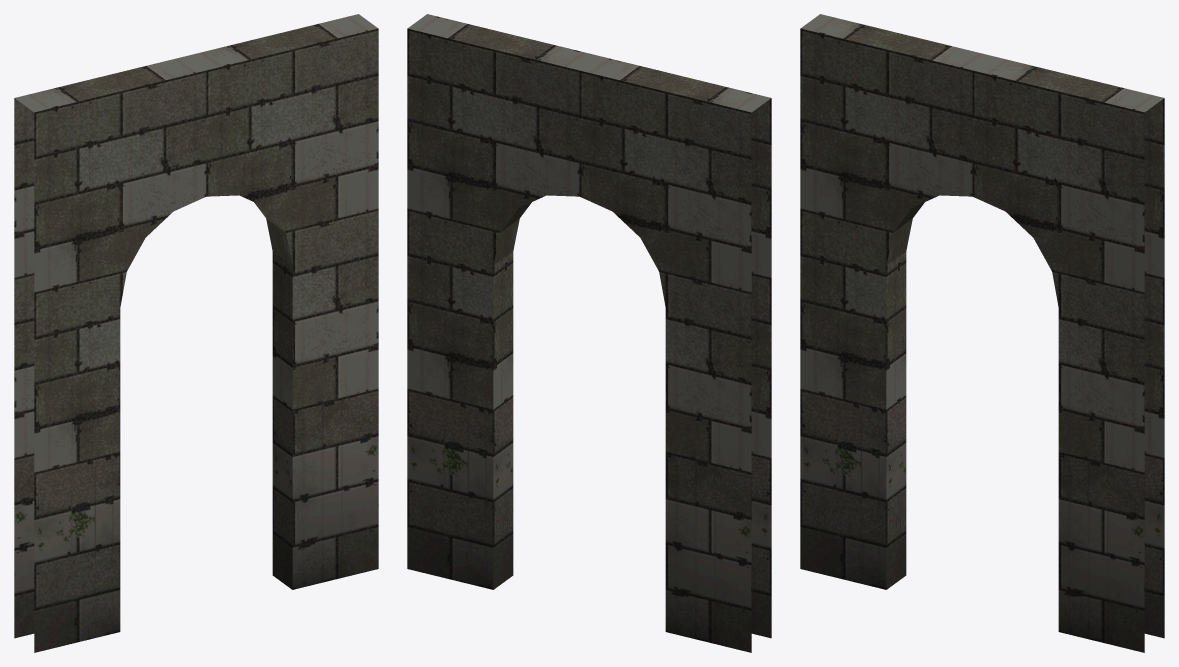
The model's file is wall_doorway_stone.fbx.
The picture shows the model from 3 angles, left to right: view 1: azimuth 30°, elevation 25°; view 2: azimuth 150°, elevation 25°; view 3: azimuth 330°, elevation 25°; orthographic projection.
Parts seen in each view (by area): view 1: wall_doorway_stone; view 2: wall_doorway_stone; view 3: wall_doorway_stone.
Boxes of the visible parts, bbox=[...] form: wall_doorway_stone: bbox=[14, 14, 378, 652]; wall_doorway_stone: bbox=[407, 14, 771, 652]; wall_doorway_stone: bbox=[800, 14, 1164, 652].
Bounding box in the file's own units: 2 × 3 × 0.2.
Materials: 1 (1 with a texture image).
